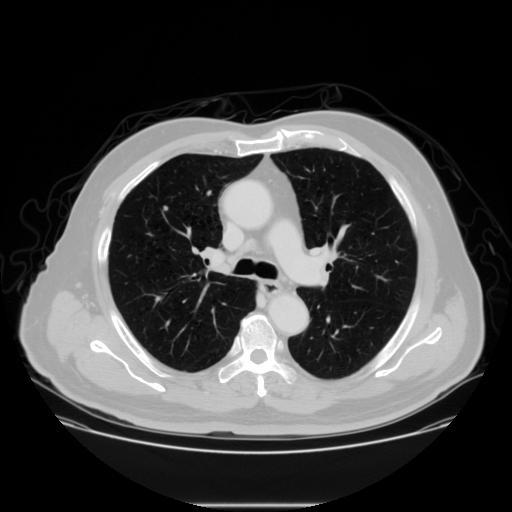nodule: (160, 203, 171, 214)
